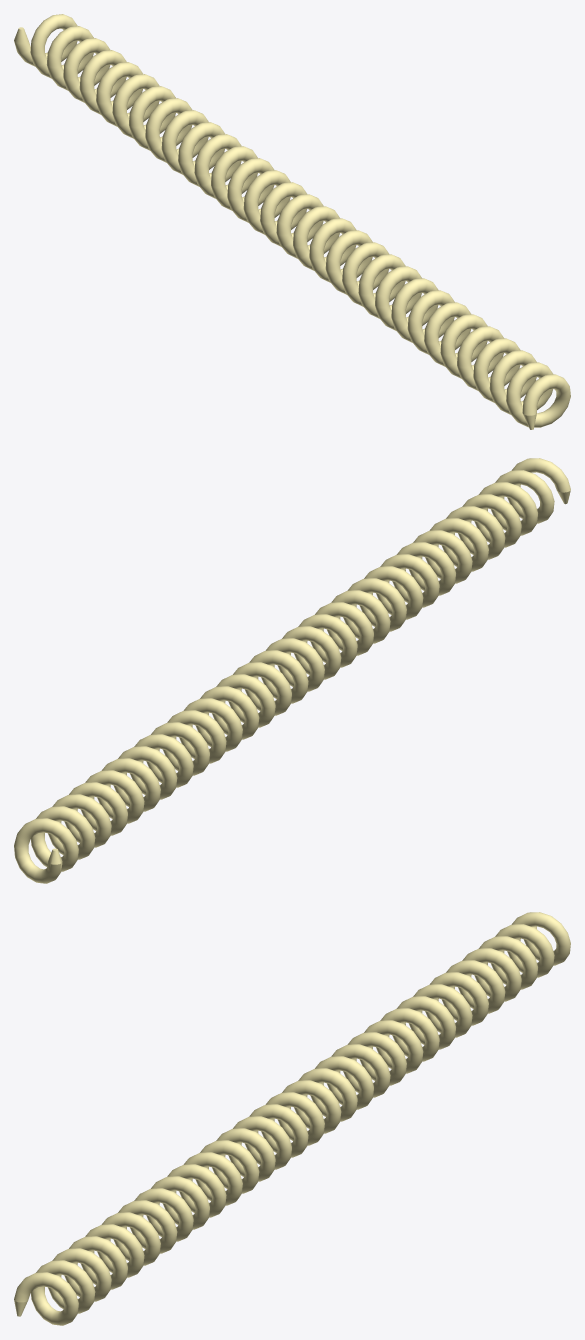
The model's file is slagroomprojectile.fbx.
3 renders of one model, top to bottom at view 1: azimuth 30°, elevation 25°; view 2: azimuth 150°, elevation 25°; view 3: azimuth 330°, elevation 25°, orthographic.
Parts seen in each view (by area): view 1: Circle.001; view 2: Circle.001; view 3: Circle.001.
Part boxes in pixels (<box>): Circle.001: <box>14,14,570,429</box>; Circle.001: <box>14,458,570,883</box>; Circle.001: <box>14,912,570,1325</box>.
Size of the model in its own units: 868 by 868 by 14150.
